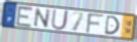7: (71, 11, 85, 32)
D: (104, 15, 121, 36)
E: (15, 4, 35, 29)
F: (85, 13, 106, 34)
N: (32, 7, 52, 29)
U: (50, 8, 70, 32)
